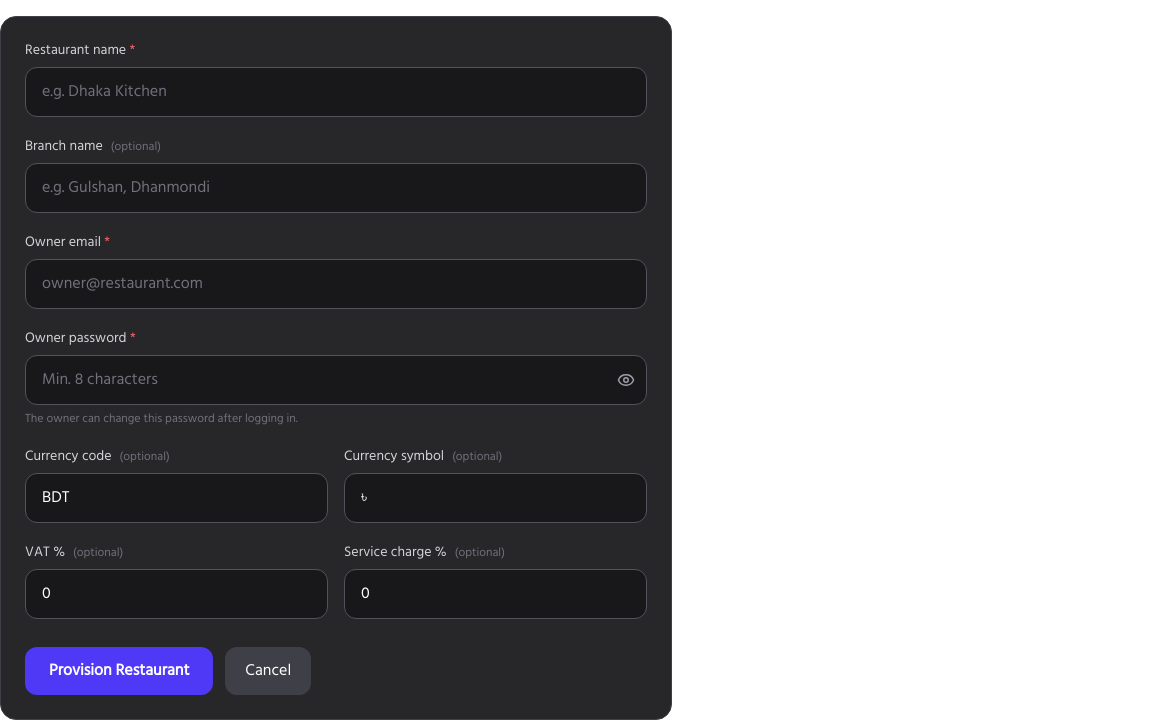
Test case: ProvisionRestaurantForm — validation › shows error when restaurant name is empty
The image size is (1152, 720).
(page scrolled)
Expected: the field labelled "Restaurant name *" is shown, [25, 67, 647, 117]
Click the button "Provision Restaurant": (119,671) [25, 647, 213, 695]
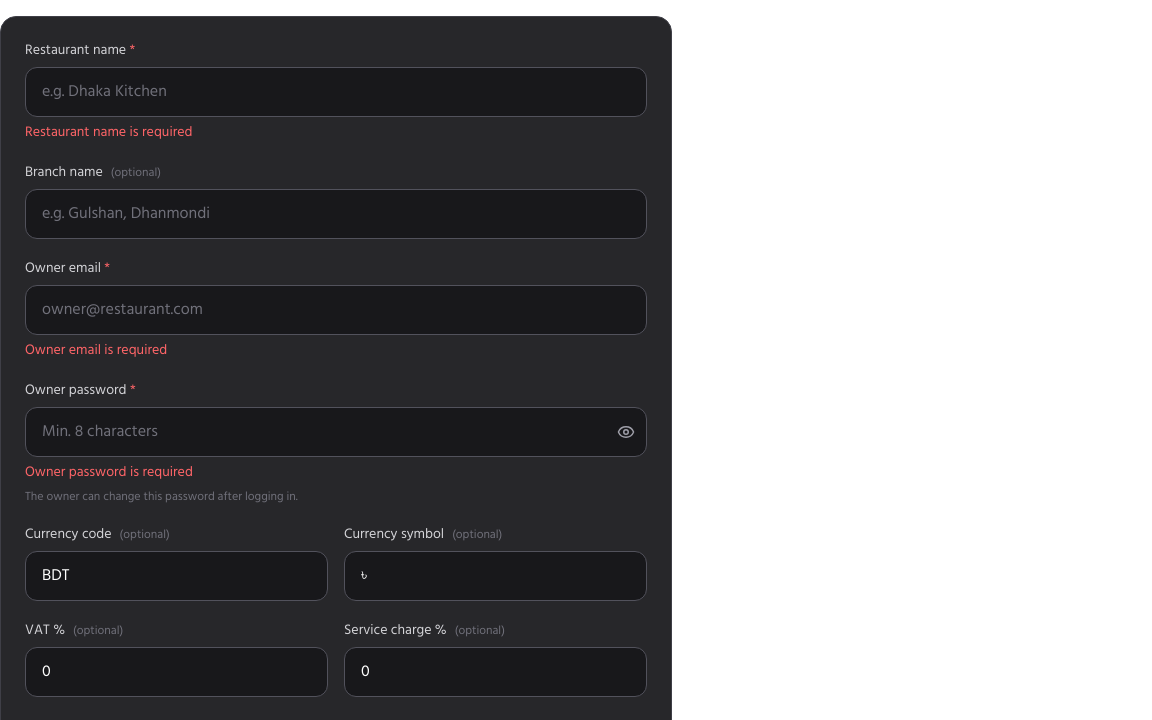
Now the text "Restaurant name is required" is shown, box [25, 121, 192, 144]
